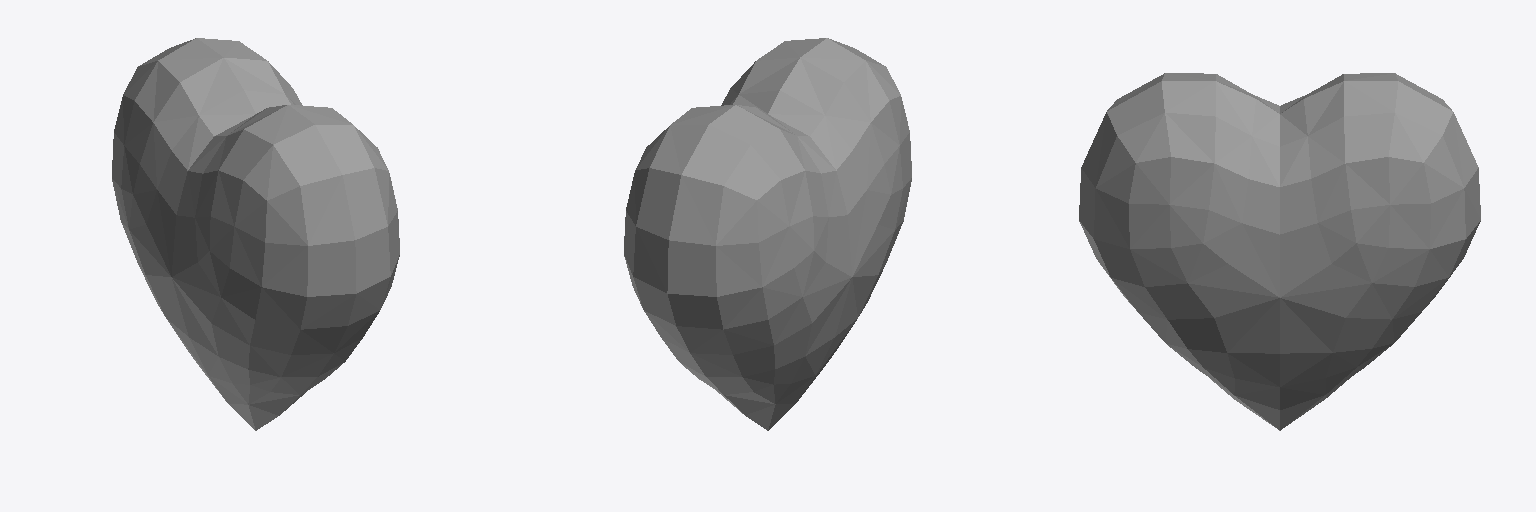
File: SOUL.obj
The picture shows the model from 3 angles: view 1: azimuth 30°, elevation 25°; view 2: azimuth 150°, elevation 25°; view 3: azimuth 270°, elevation 25°; orthographic projection.
Parts seen in each view (by area): view 1: Cube.001; view 2: Cube.001; view 3: Cube.001.
Boxes of the visible parts, <box> form: Cube.001: <box>112,38,399,430</box>; Cube.001: <box>624,38,911,430</box>; Cube.001: <box>1079,73,1480,430</box>.
Bounding box in the file's own units: 1.7 × 3.34 × 3.48.